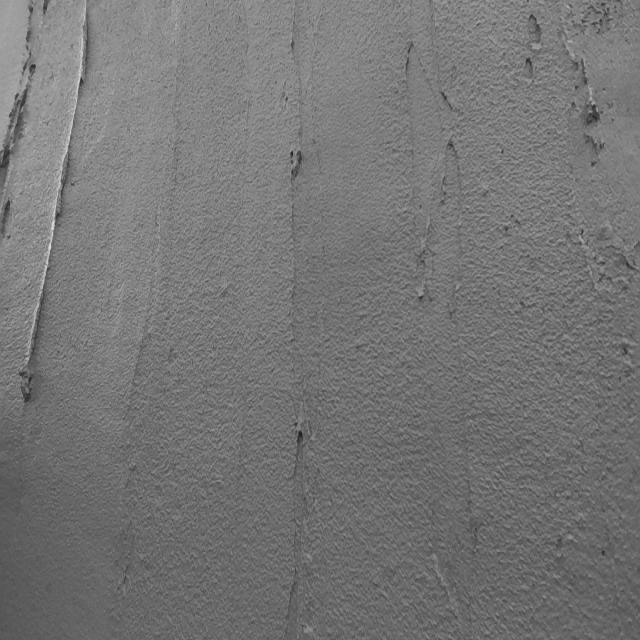trowels marks: (19, 7, 94, 420), (280, 34, 308, 419)
